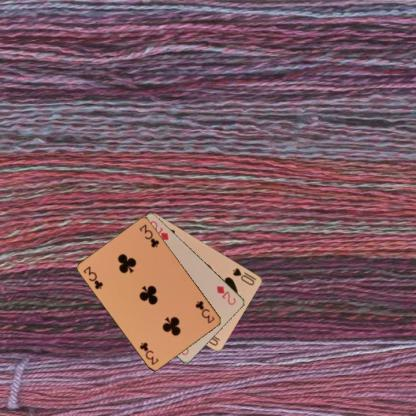10s: (230, 265, 258, 287)
2d: (214, 283, 237, 306)
3c: (193, 298, 216, 325), (81, 263, 104, 290)
